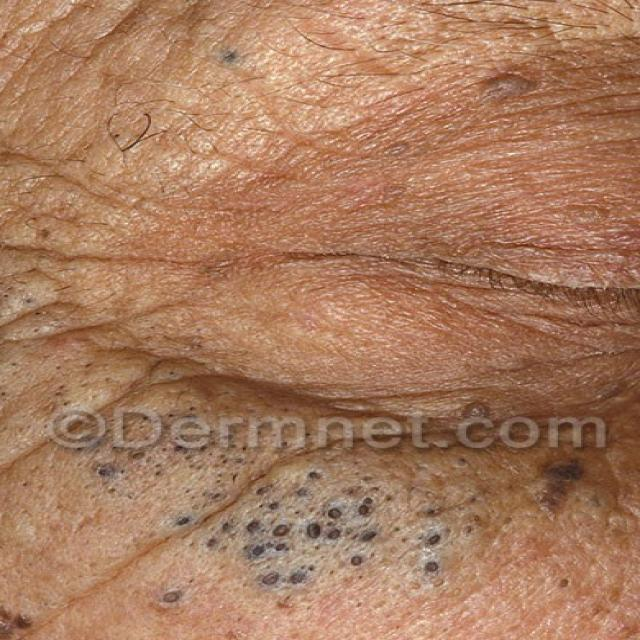Acne: (31, 346, 612, 640), (0, 80, 189, 265), (368, 51, 612, 146)
